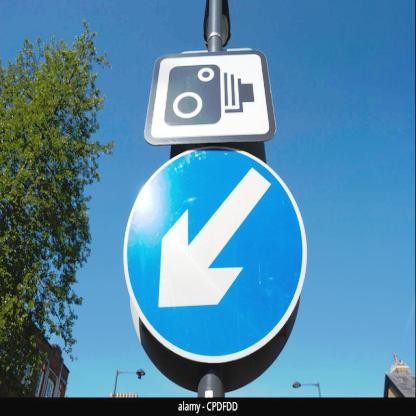Keep left: (122, 138, 314, 366)
